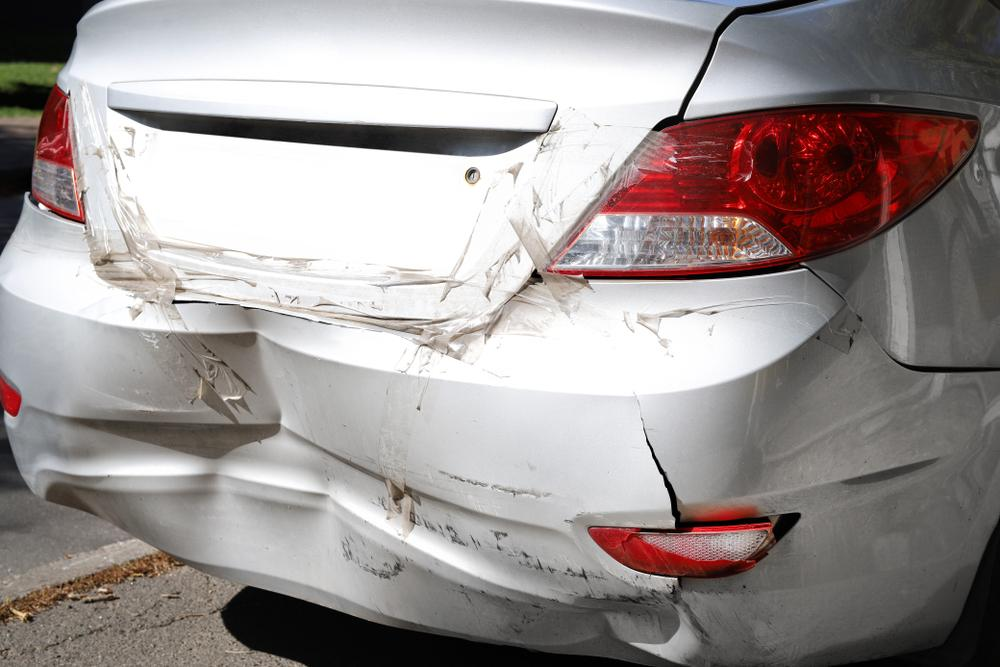crack: (632, 386, 683, 527)
dent: (62, 306, 366, 593), (513, 595, 700, 667)
scratch: (361, 458, 631, 584)
